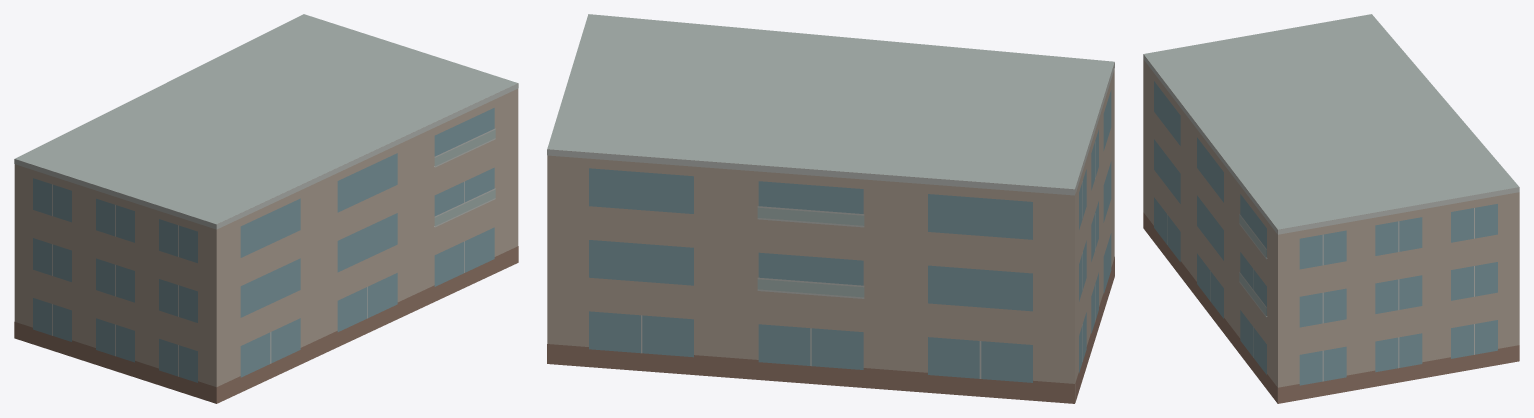
File: survey-upis-33004046.glb
The picture shows the model from 3 angles, left to right: view 1: azimuth 30°, elevation 25°; view 2: azimuth 150°, elevation 25°; view 3: azimuth 270°, elevation 25°; orthographic projection. The views are drawn at different scales.
Parts seen in each view (by area): view 1: survey-upis-33004046.tmp; view 2: survey-upis-33004046.tmp; view 3: survey-upis-33004046.tmp.
Part boxes in pixels (left/top/right/bottom): survey-upis-33004046.tmp: left=14, top=14, right=518, bottom=403; survey-upis-33004046.tmp: left=547, top=14, right=1114, bottom=403; survey-upis-33004046.tmp: left=1143, top=14, right=1519, bottom=403.
Size of the model in its own units: 22.31 by 8.4 by 16.45.
